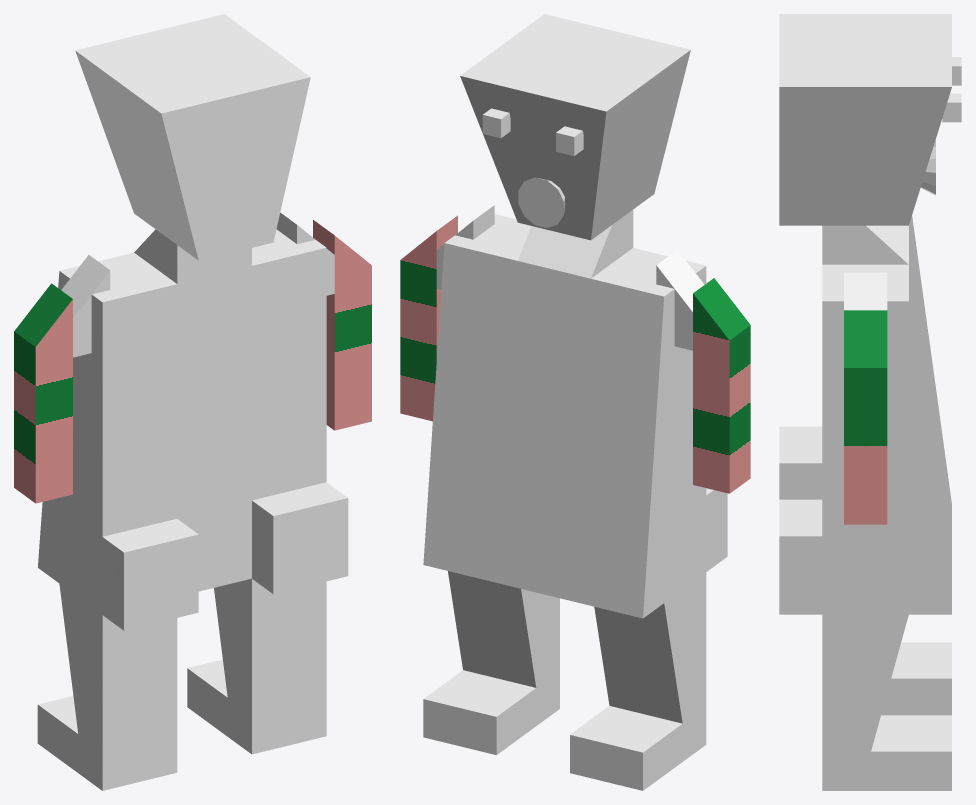
File: la_contribución_de_nacho.gltf
The picture shows the model from 3 angles, left to right: view 1: azimuth 30°, elevation 25°; view 2: azimuth 150°, elevation 25°; view 3: azimuth 270°, elevation 25°; orthographic projection. The views are drawn at different scales.
Visible parts, largest first — view 1: cuboid (×13); view 2: cuboid (×14), cone; view 3: cuboid (×12), cone.
Boxes of the visible parts, x1,y1,x2,y2 form: cuboid (×13): (14, 14, 371, 790); cuboid (×14): (400, 14, 750, 790); cone: (518, 177, 565, 228); cuboid (×12): (779, 14, 961, 790); cone: (920, 140, 935, 195).
Size of the model in its own units: 0.5625 by 1.09 by 0.2641.
8 materials, 2 textured.
